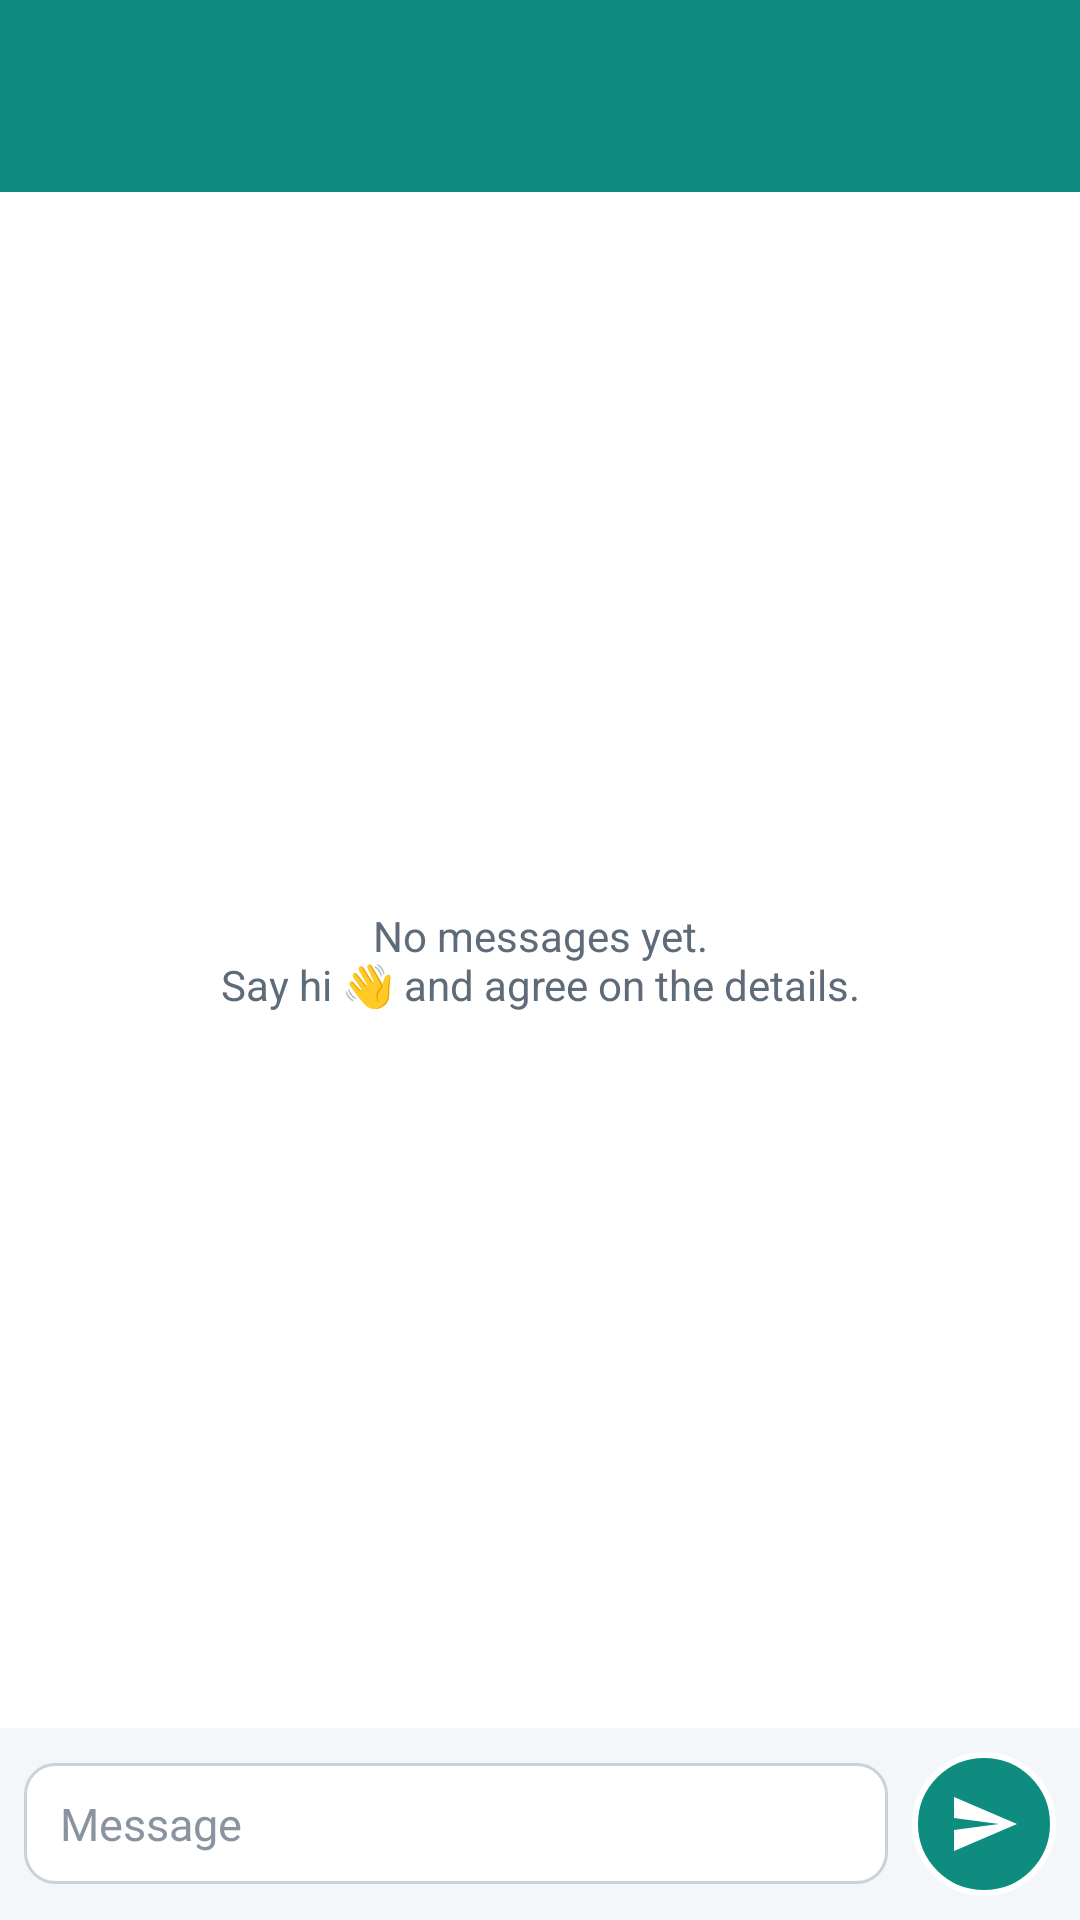

Named icons in this screenshot (1080×1920) and their bounding boxes, (x1, y1, x2, y2):
Send: (918, 1758, 1050, 1890)
